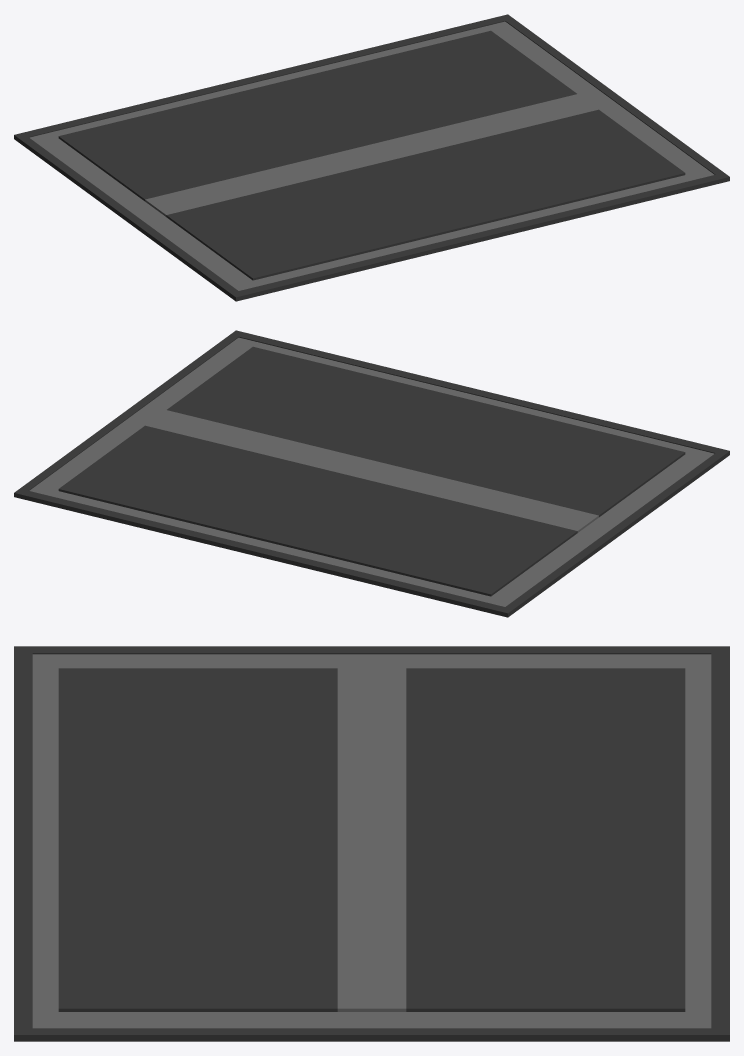
The model's file is P_Carpet.fbx.
3 views of the same model, one above another, from view 1: azimuth 30°, elevation 25°; view 2: azimuth 150°, elevation 25°; view 3: azimuth 270°, elevation 25° (orthographic). The views are drawn at different scales.
Parts seen in each view (by area): view 1: P_Carpet; view 2: P_Carpet; view 3: P_Carpet.
Part boxes in pixels (x1,y1,x2,y2): P_Carpet: (14,14,729,301); P_Carpet: (14,330,729,617); P_Carpet: (14,646,729,1041).
Bounding box in the file's own units: 1462 × 1138 × 15.66.
